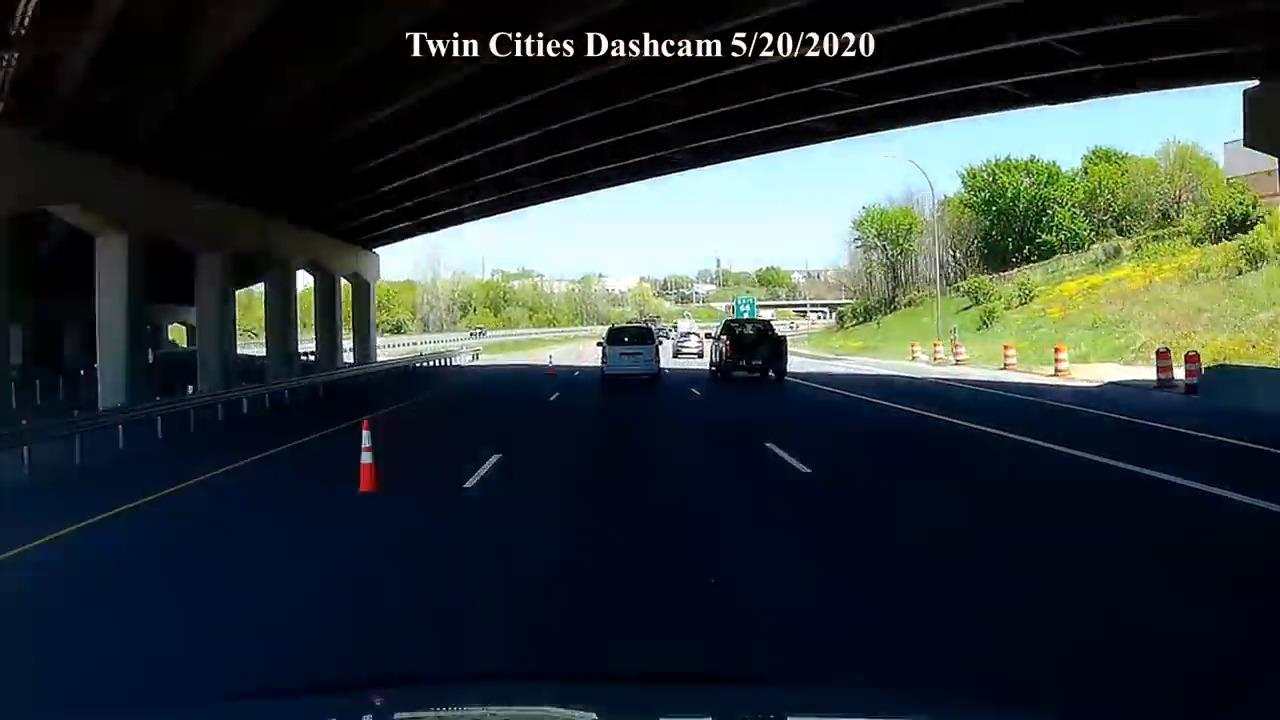car: (708, 317, 789, 382), (596, 324, 662, 381), (672, 331, 704, 359)
traffic cone: (356, 418, 381, 495), (1180, 350, 1203, 396), (1153, 347, 1178, 388), (949, 325, 969, 364), (1052, 344, 1072, 377), (932, 339, 946, 364), (546, 353, 557, 376)
